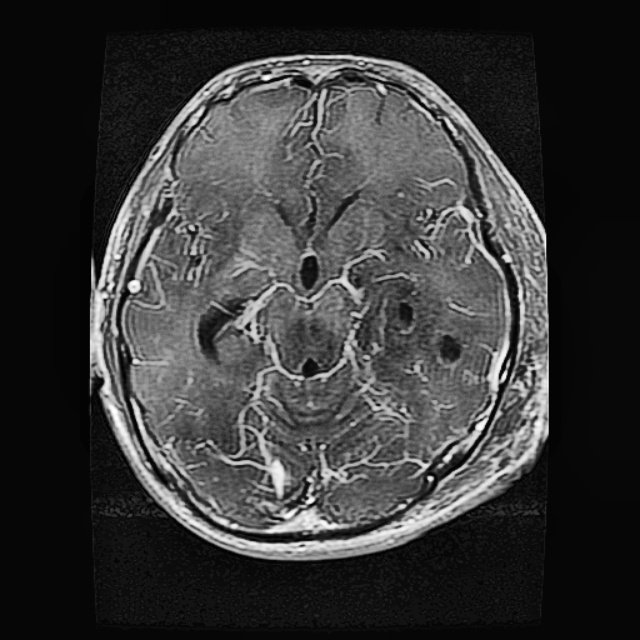Pituitary: (375, 283, 483, 389)
